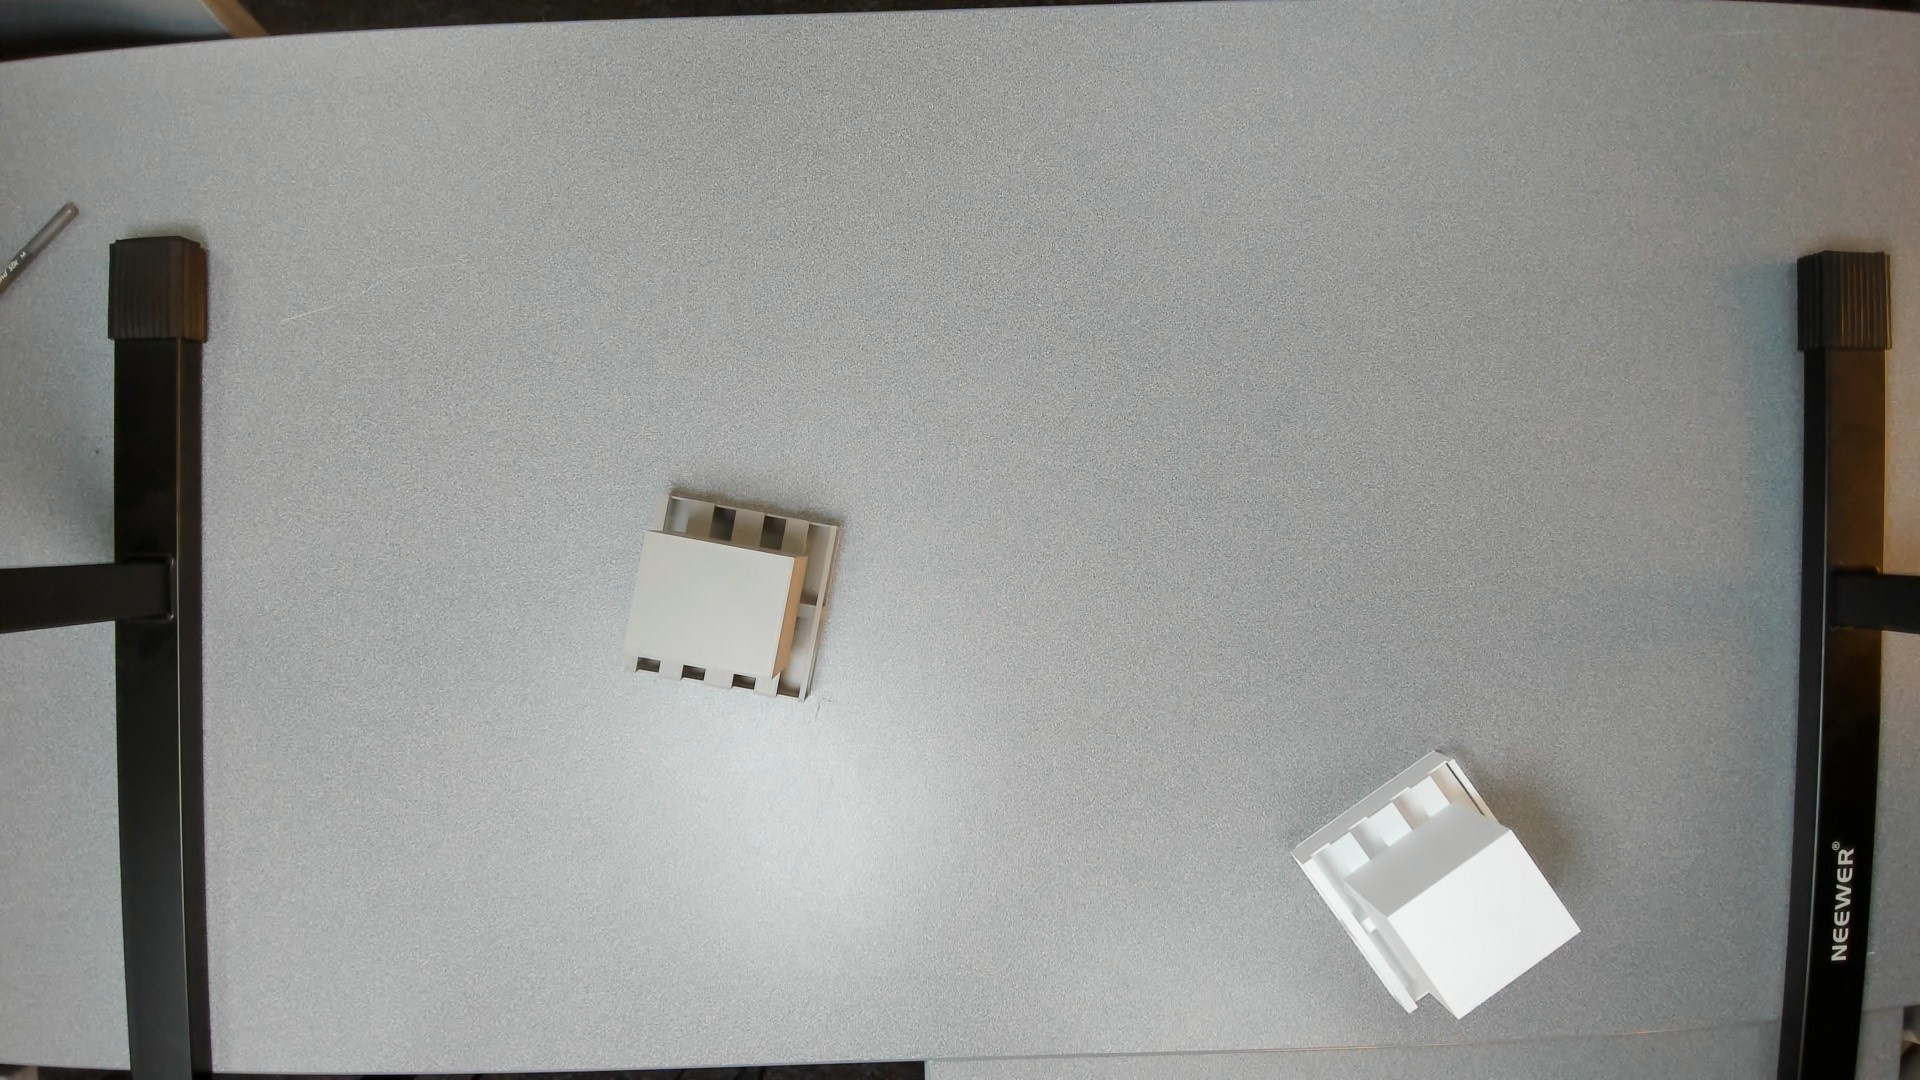grey pallet: (615, 473, 849, 717)
white pallet: (1280, 732, 1596, 1033)
